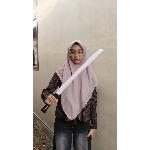Pedang: (37, 49, 107, 114)
